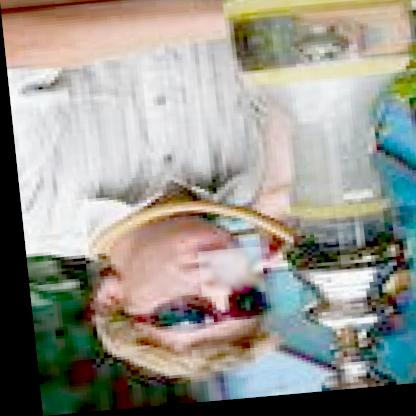smoke: (192, 251, 258, 300)
